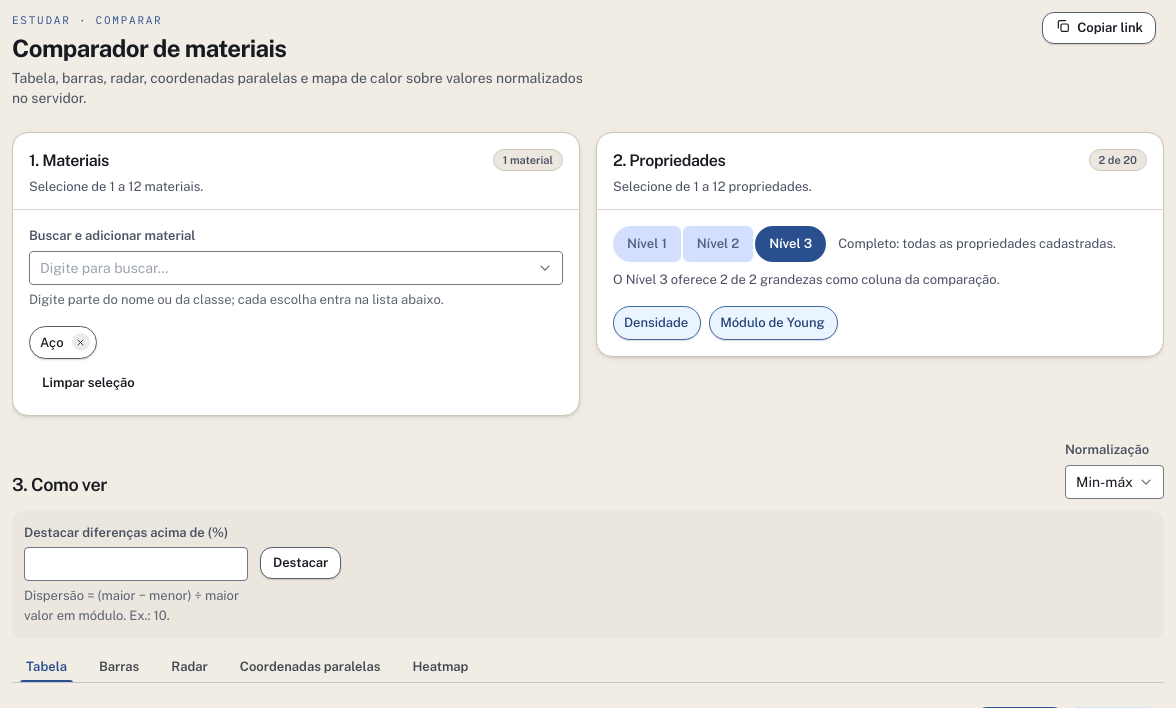
Test case: comparador: limiar e computadas (D-128) › recusa um limiar fora da faixa com mensagem e não o envia
The image size is (1176, 708).
Type "0" into the number field labelled "Destacar diferenças acima de (%)" at (136, 564), box [24,547,248,581]
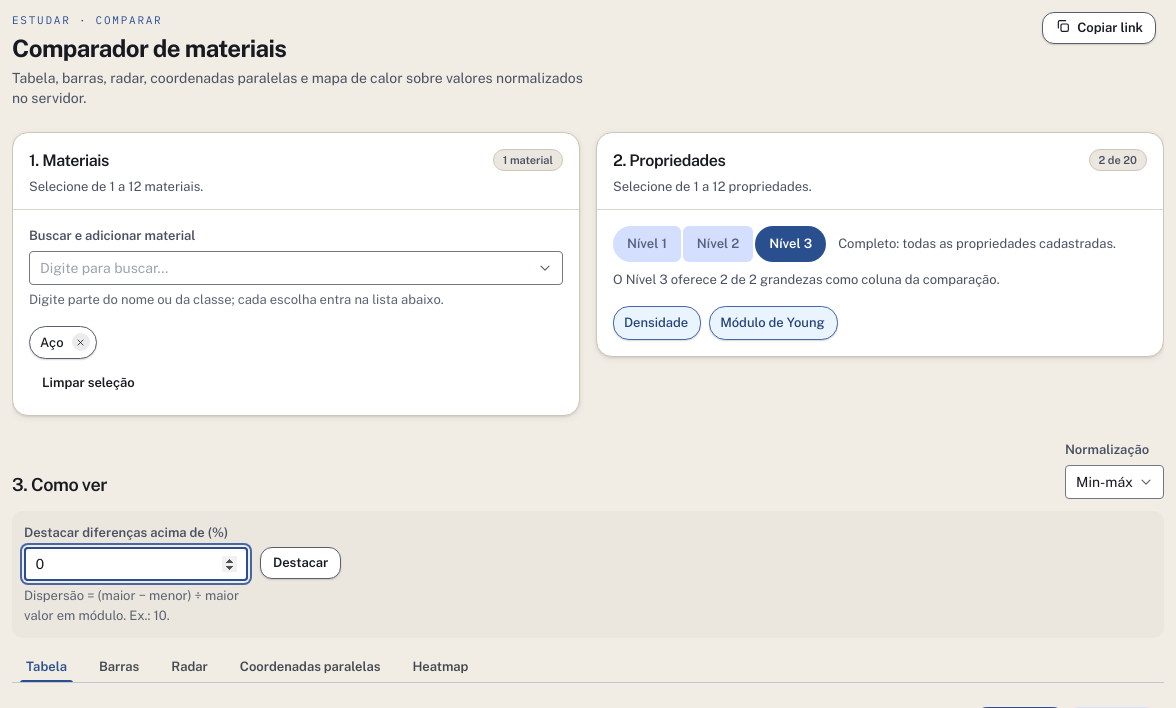
Click the button "Destacar" at (301, 562), box [260,546,341,578]
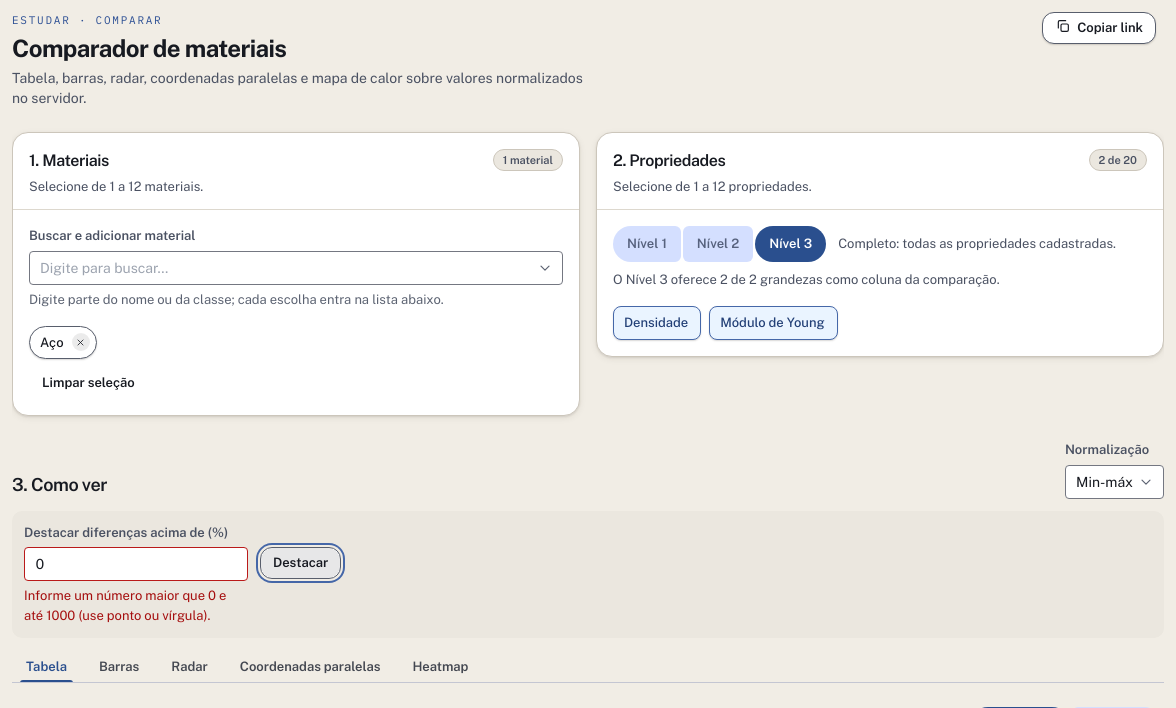
Now the text "Informe um número maior que 0 e até 1000 (use ponto ou vírgula)." is shown, box [24,586,248,626]
